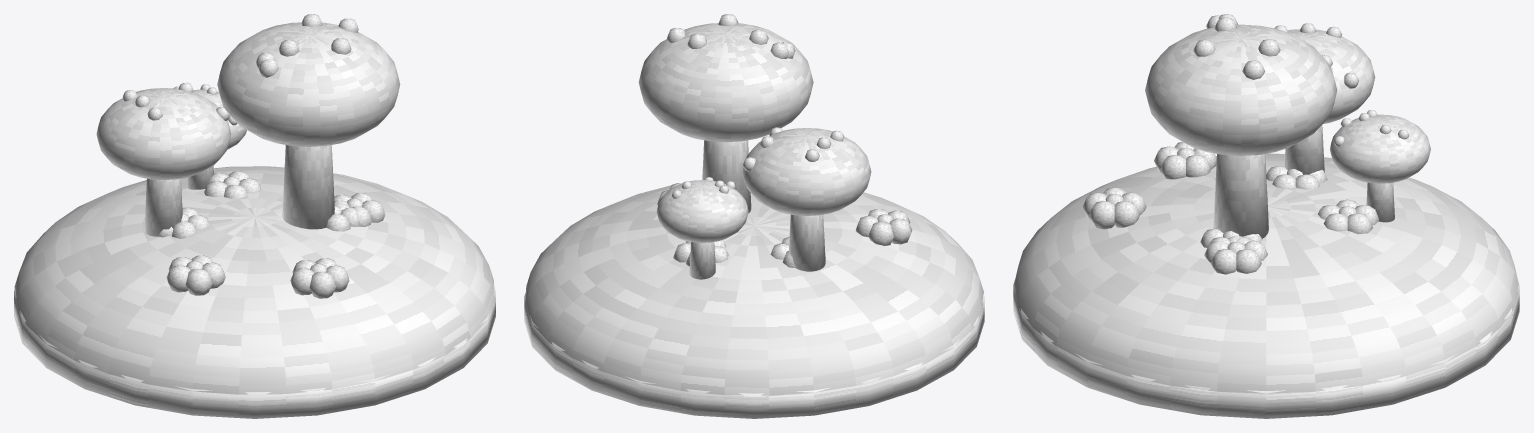
The model's file is mother.obj.
3 renders of one model, left to right at view 1: azimuth 30°, elevation 25°; view 2: azimuth 150°, elevation 25°; view 3: azimuth 270°, elevation 25°, orthographic. The views are drawn at different scales.
Size of the model in its own units: 0.95 by 0.6263 by 0.95.
